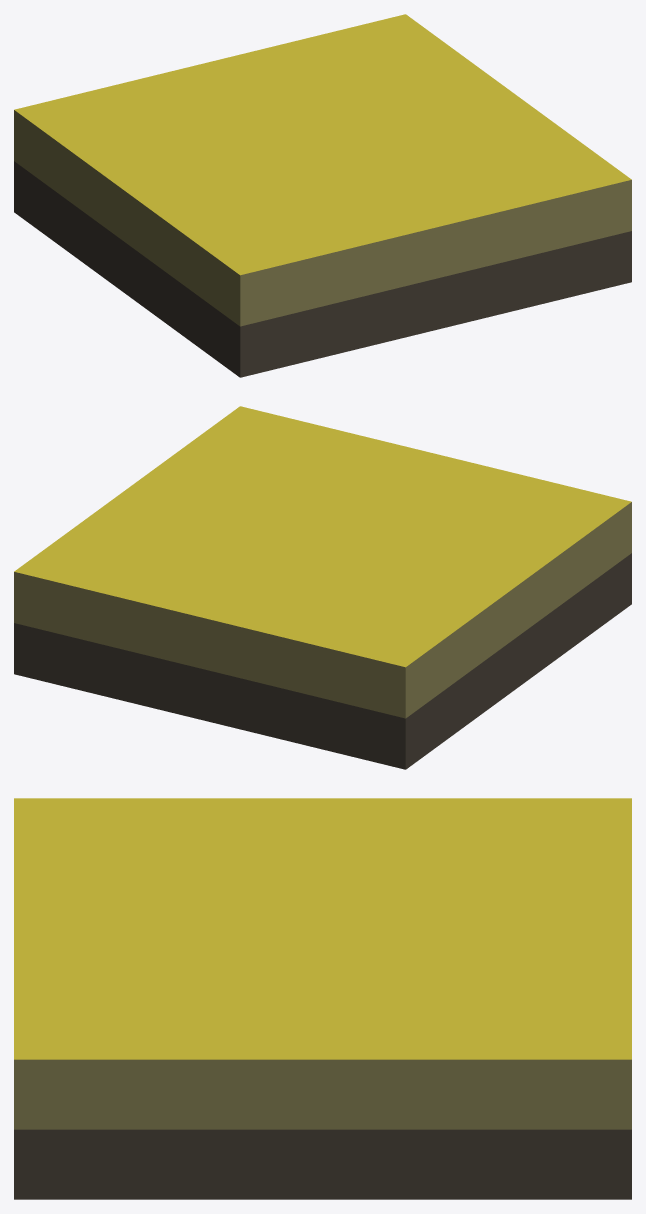
Rendered from tile1_1 full.fbx.
3 renders of one model, top to bottom at view 1: azimuth 30°, elevation 25°; view 2: azimuth 150°, elevation 25°; view 3: azimuth 270°, elevation 25°, orthographic. The views are drawn at different scales.
Parts seen in each view (by area): view 1: Cube.001; view 2: Cube.001; view 3: Cube.001.
Boxes of the visible parts, left/top/right/bottom form: Cube.001: left=14, top=14, right=631, bottom=377; Cube.001: left=14, top=406, right=631, bottom=769; Cube.001: left=14, top=798, right=631, bottom=1199.
Bounding box in the file's own units: 200 × 50 × 200.
1 material, 1 textured.
